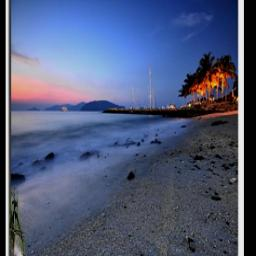Cuckoo: (10, 186, 26, 256)
